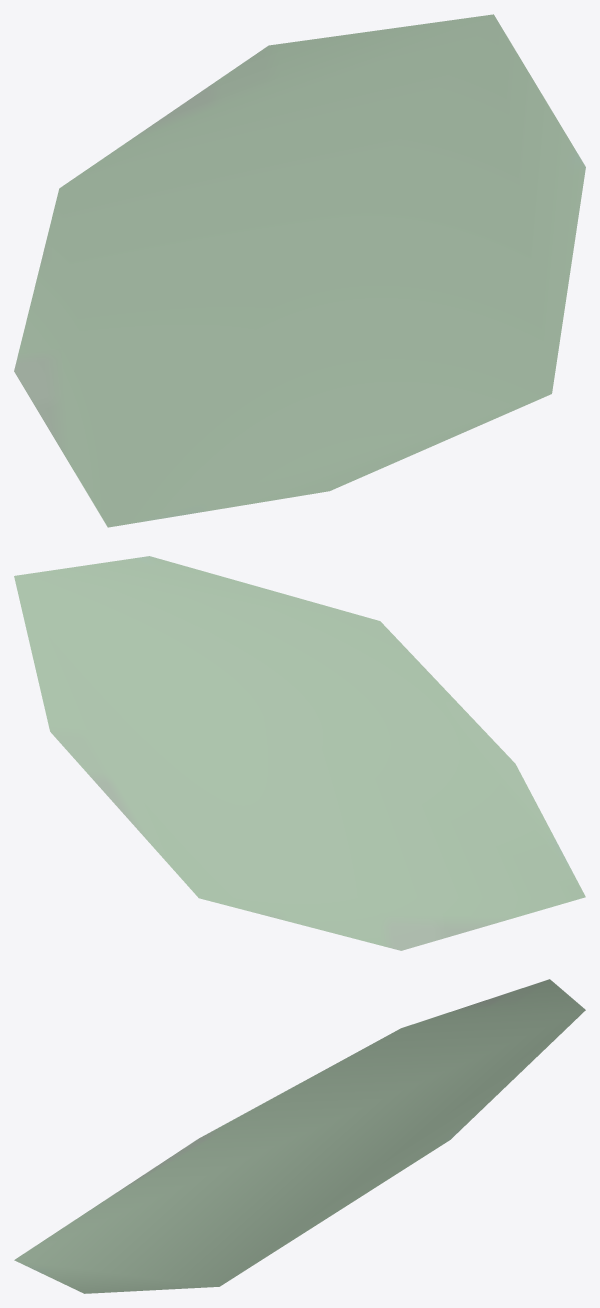
Rendered from TROLLHOLE02_HOLECAP109.fbx.
3 renders of one model, top to bottom at view 1: azimuth 30°, elevation 25°; view 2: azimuth 150°, elevation 25°; view 3: azimuth 330°, elevation 25°, orthographic. The views are drawn at different scales.
Parts seen in each view (by area): view 1: TROLLHOLE02_HOLECAP109; view 2: TROLLHOLE02_HOLECAP109; view 3: TROLLHOLE02_HOLECAP109.
Part boxes in pixels (x1,y1,x2,y2): TROLLHOLE02_HOLECAP109: [14, 14, 585, 527]; TROLLHOLE02_HOLECAP109: [14, 556, 585, 950]; TROLLHOLE02_HOLECAP109: [14, 979, 585, 1293].
Bounding box in the file's own units: 17239 × 10112 × 20518.
Materials: 1 (1 with a texture image).
